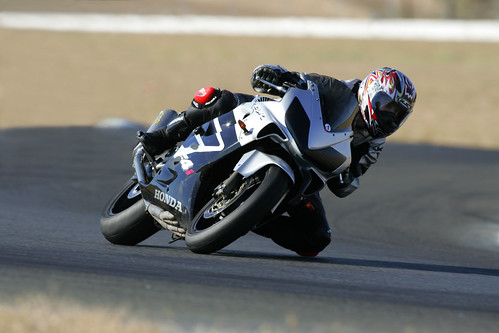helmet: (351, 64, 428, 140)
